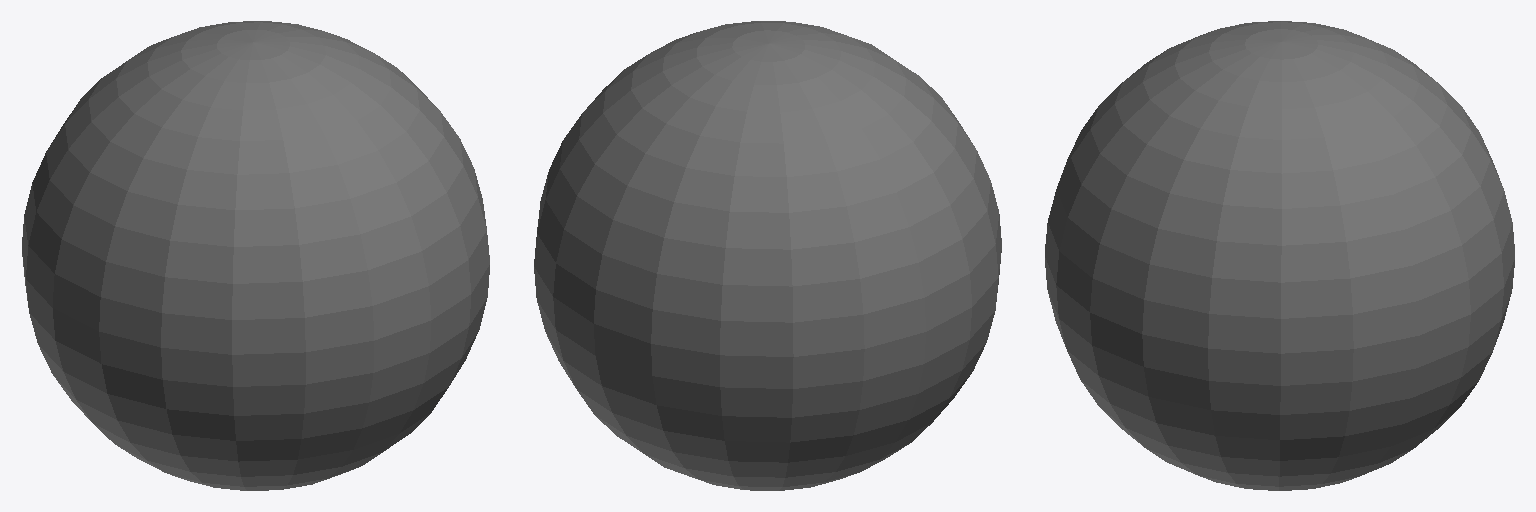
The model's file is dome.obj.
3 renders of one model, left to right at view 1: azimuth 30°, elevation 25°; view 2: azimuth 150°, elevation 25°; view 3: azimuth 270°, elevation 25°, orthographic.
Parts seen in each view (by area): view 1: pSphere2; view 2: pSphere2; view 3: pSphere2.
Part boxes in pixels (x1,y1,x2,y2): pSphere2: (22,21,489,490); pSphere2: (534,21,1001,490); pSphere2: (1045,21,1514,490).
Bounding box in the file's own units: 155 × 155 × 155.